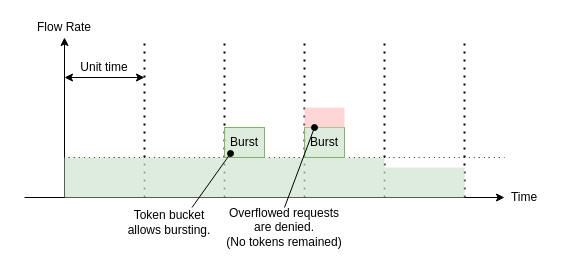
Image size: 562x266. Some labels were removed from this diagram. The centre of each missing label's shape, as x and y in pixels:
Allowed: point 104,177
Denied: point 324,117
